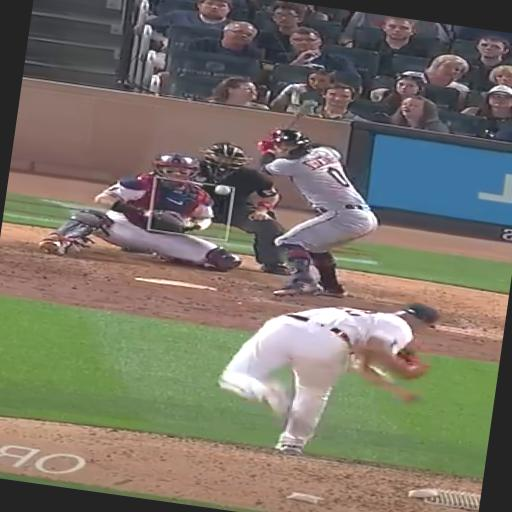bat: (285, 100, 318, 129)
